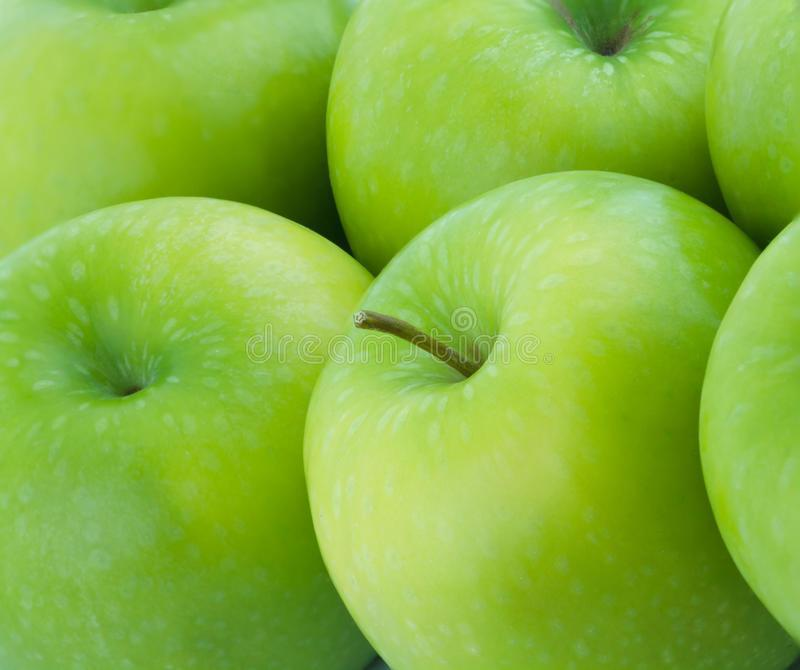apple: (300, 177, 787, 666), (1, 188, 381, 666)
